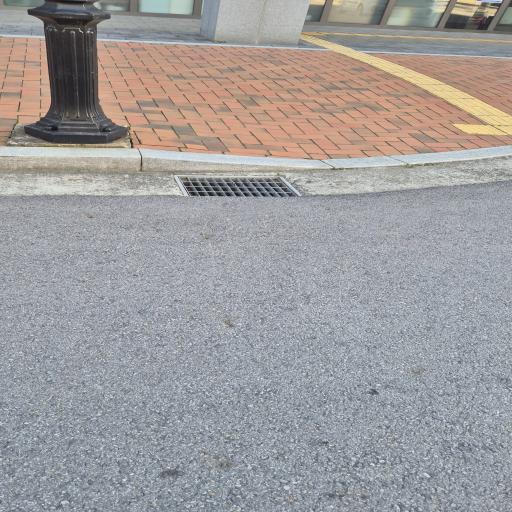drain: (176, 176, 300, 197)
